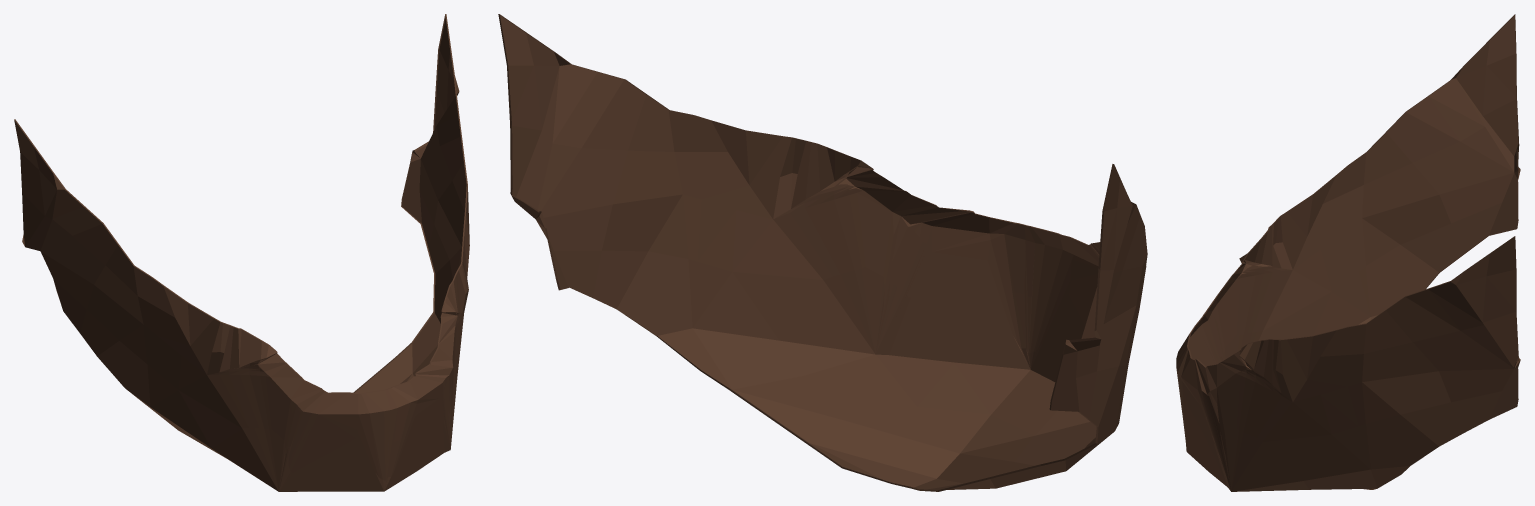
Rendered from cheia_blocada.glb.
3 views of the same model, side by side, from view 1: azimuth 30°, elevation 25°; view 2: azimuth 150°, elevation 25°; view 3: azimuth 270°, elevation 25° (orthographic). The views are drawn at different scales.
Visible parts, largest first — view 1: R28_nariz_baixo_4mm_cheia_blocada; view 2: R28_nariz_baixo_4mm_cheia_blocada; view 3: R28_nariz_baixo_4mm_cheia_blocada.
Boxes of the visible parts, bbox=[...] form: R28_nariz_baixo_4mm_cheia_blocada: bbox=[14, 14, 469, 491]; R28_nariz_baixo_4mm_cheia_blocada: bbox=[498, 14, 1147, 491]; R28_nariz_baixo_4mm_cheia_blocada: bbox=[1176, 14, 1520, 491].
Bounding box in the file's own units: 0.2132 × 0.1606 × 0.1396.
